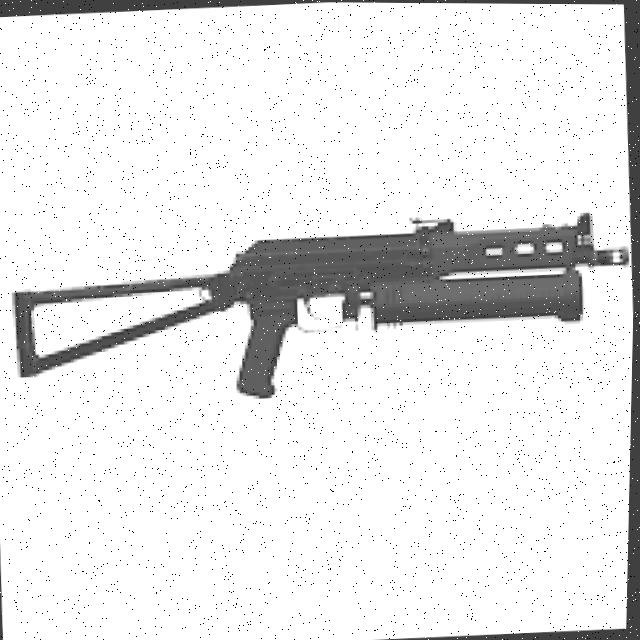firearm: (5, 201, 636, 411)
